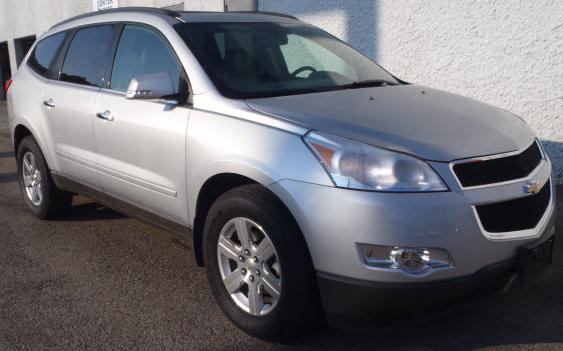front_view: (289, 119, 559, 314)
headlight: (301, 119, 453, 200)
side_glass: (22, 20, 186, 110)
